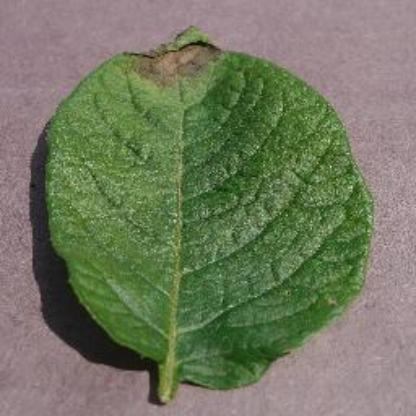Late-Blight: (46, 25, 388, 389)
